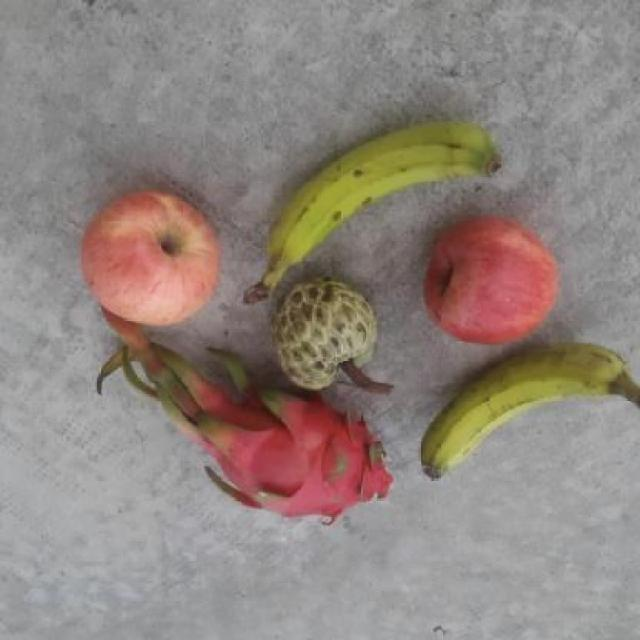apple: (77, 180, 225, 326), (419, 212, 559, 346)
banana: (238, 114, 510, 306), (418, 342, 640, 483)
dragon fruit: (200, 377, 394, 525)
sugar apple: (270, 272, 399, 396)
